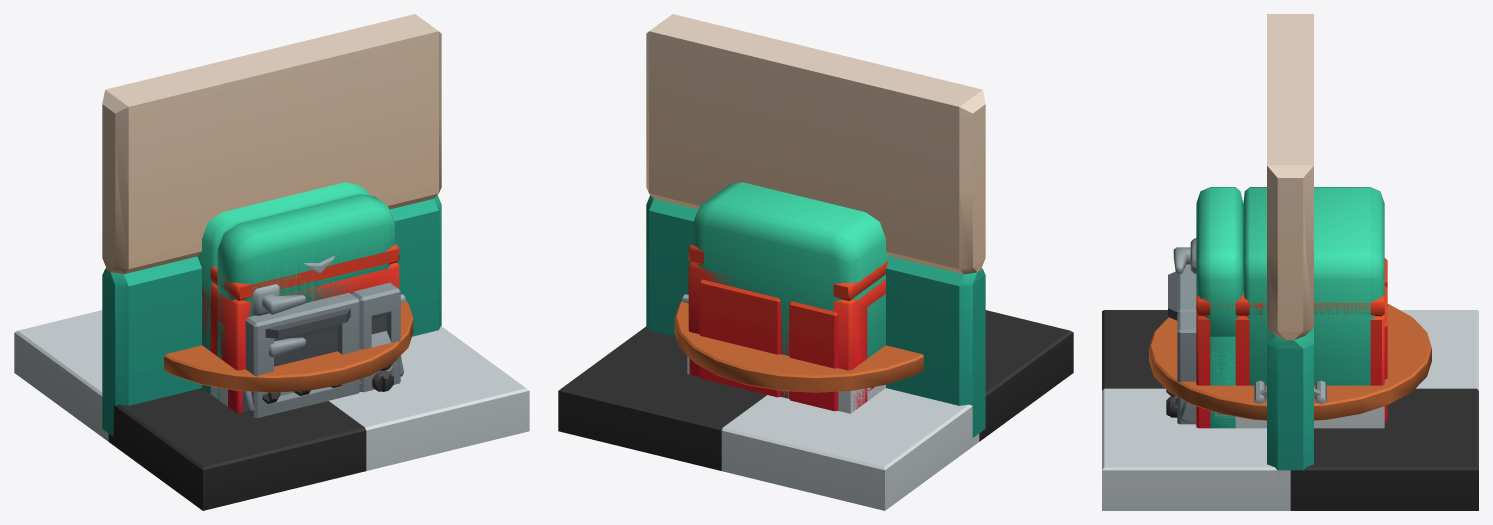
The model's file is kitchen.glb.
The picture shows the model from 3 angles, left to right: view 1: azimuth 30°, elevation 25°; view 2: azimuth 150°, elevation 25°; view 3: azimuth 270°, elevation 25°; orthographic projection.
Parts seen in each view (by area): view 1: wall_doorway, wall, floor_kitchen, oven, fridge_B_door, wall_half, fridge_A_door_top, oven_door, table_round_A, fridge_A, stove_multi, fridge_A_door_bottom; view 2: wall, floor_kitchen, wall_doorway, wall_half, fridge_A, oven, table_round_A, kitchencounter_sink; view 3: floor_kitchen, wall, fridge_A, wall_doorway, table_round_A, oven, fridge_B_door, fridge_A_door_top, wall_half, kitchencounter_sink, oven_door, fridge_A_door_bottom (+3 smaller).
Part boxes in pixels (box(x1,y1,x2,y2)): wall_doorway: box(102, 14, 441, 432); wall: box(102, 14, 441, 436); floor_kitchen: box(14, 310, 529, 510); oven: box(202, 244, 400, 412); fridge_B_door: box(217, 193, 394, 355); wall_half: box(269, 14, 438, 336); fridge_A_door_top: box(217, 217, 394, 316); oven_door: box(245, 292, 359, 417); table_round_A: box(164, 301, 413, 392); fridge_A: box(197, 182, 369, 393); stove_multi: box(235, 355, 403, 413); fridge_A_door_bottom: box(217, 320, 305, 400); wall: box(646, 14, 985, 437); floor_kitchen: box(558, 310, 1073, 510); wall_doorway: box(646, 14, 985, 432); wall_half: box(649, 14, 818, 336); fridge_A: box(693, 182, 890, 398); oven: box(688, 244, 888, 411); table_round_A: box(674, 301, 923, 392); kitchencounter_sink: box(687, 356, 885, 413); floor_kitchen: box(1102, 310, 1478, 510); wall: box(1267, 14, 1313, 470); fridge_A: box(1243, 187, 1384, 385); wall_doorway: box(1267, 14, 1313, 472); table_round_A: box(1149, 304, 1431, 420); oven: box(1166, 258, 1387, 428); fridge_B_door: box(1192, 187, 1243, 385); fridge_A_door_top: box(1173, 238, 1243, 336); wall_half: box(1267, 93, 1313, 341); kitchencounter_sink: box(1215, 385, 1384, 428); oven_door: box(1168, 264, 1196, 320); fridge_A_door_bottom: box(1210, 349, 1235, 428).
Size of the model in its own units: 4 by 4 by 4.
1 material, 1 textured.
